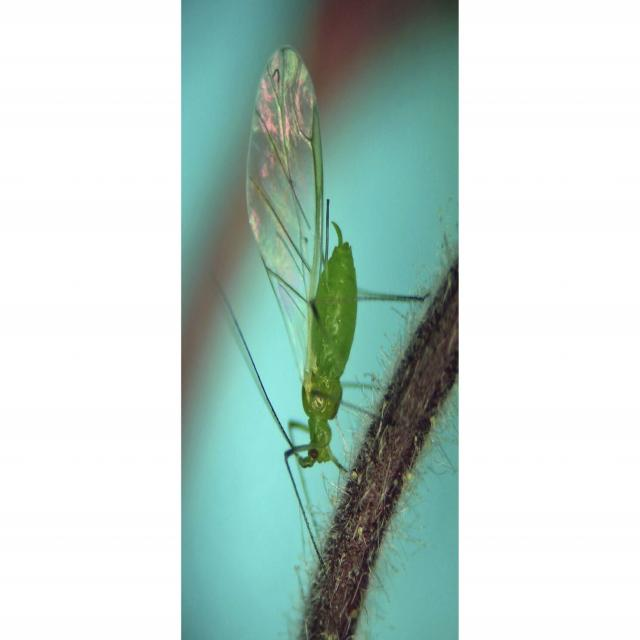Aphid-Grown-have wings-: (229, 38, 408, 490)
